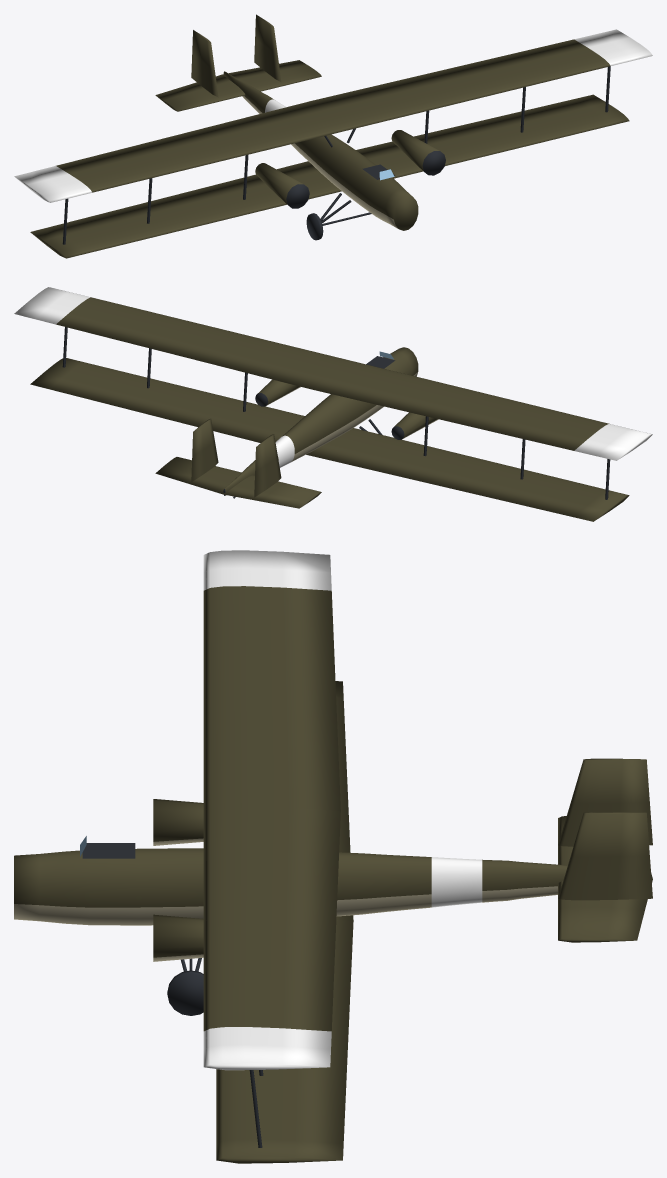
The model's file is bomber_ww1.glb.
The picture shows the model from 3 angles, top to bottom: view 1: azimuth 30°, elevation 25°; view 2: azimuth 150°, elevation 25°; view 3: azimuth 270°, elevation 25°; orthographic projection. The views are drawn at different scales.
Parts seen in each view (by area): view 1: body; view 2: body; view 3: body.
Part boxes in pixels (x1=…): body: x1=14, y1=14, x2=652, y2=258; body: x1=14, y1=287, x2=652, y2=521; body: x1=14, y1=550, x2=652, y2=1163.
Size of the model in its own units: 23 by 4.07 by 12.12.
